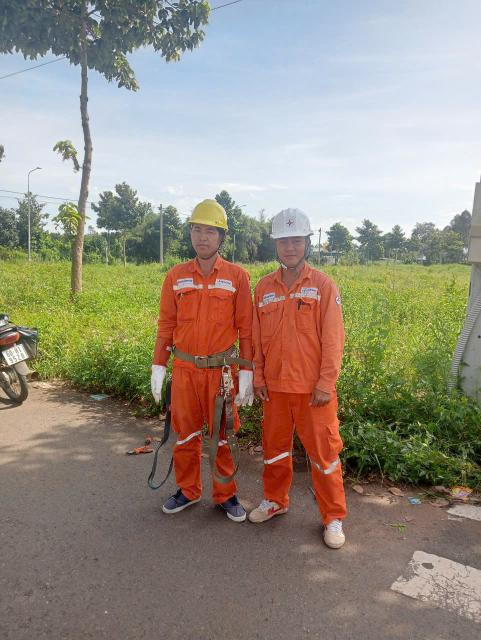gloves: (143, 359, 169, 403), (235, 368, 256, 410)
harness: (169, 336, 257, 371)
helmet: (184, 191, 235, 238), (265, 201, 318, 242)
shoes: (244, 491, 294, 531), (162, 481, 203, 519), (318, 512, 349, 554), (214, 492, 246, 526)
